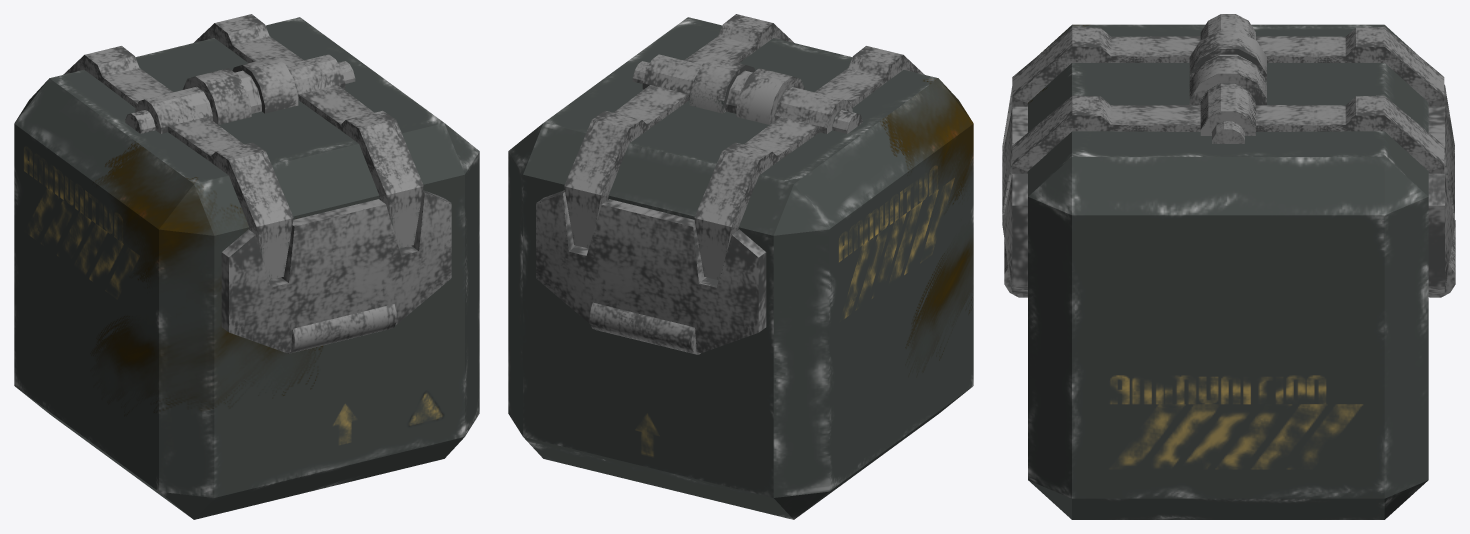
The model's file is Ammo_Crate.FBX.
3 renders of one model, left to right at view 1: azimuth 30°, elevation 25°; view 2: azimuth 150°, elevation 25°; view 3: azimuth 270°, elevation 25°, orthographic. The views are drawn at different scales.
Visible parts, largest first — view 1: Box017; view 2: Box017; view 3: Box017.
Part boxes in pixels (box(x1,y1,x2,y2)): Box017: box(14, 14, 479, 519); Box017: box(508, 14, 973, 519); Box017: box(1002, 14, 1455, 519).
Size of the model in its own units: 101 by 111 by 114.
